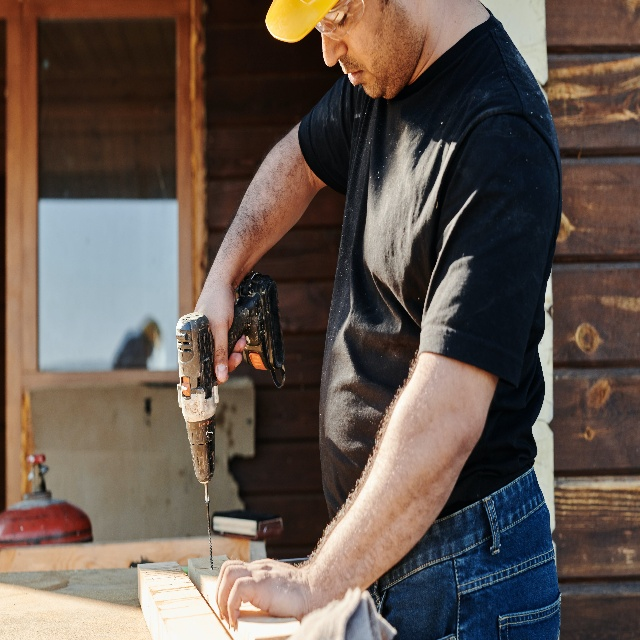Gafas: (318, 0, 366, 45)
Sin_guantes: (215, 552, 303, 632), (191, 271, 238, 381)
